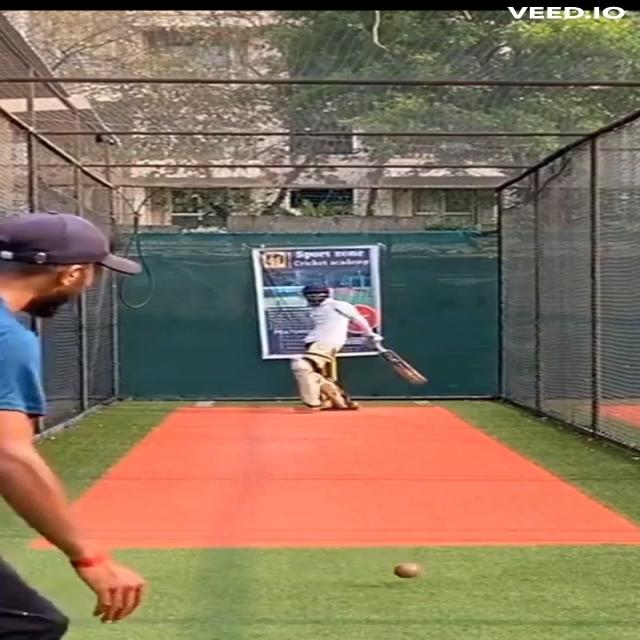ball: (389, 560, 424, 581)
